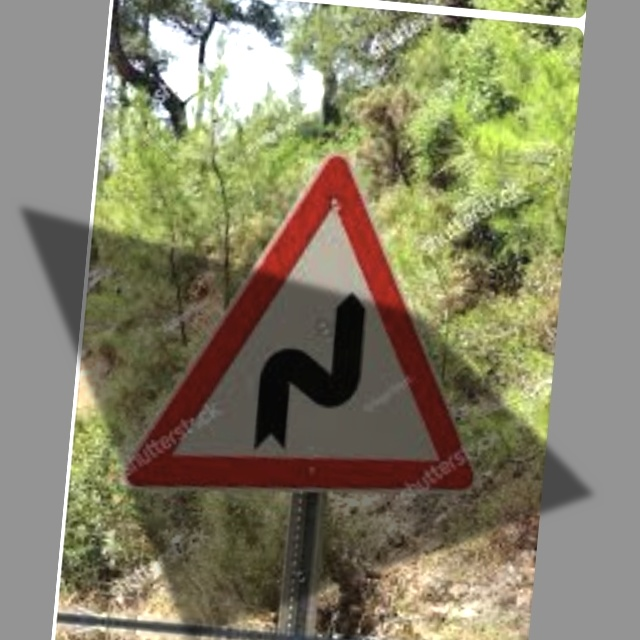Right_Reverse_Bend: (124, 136, 502, 497)
